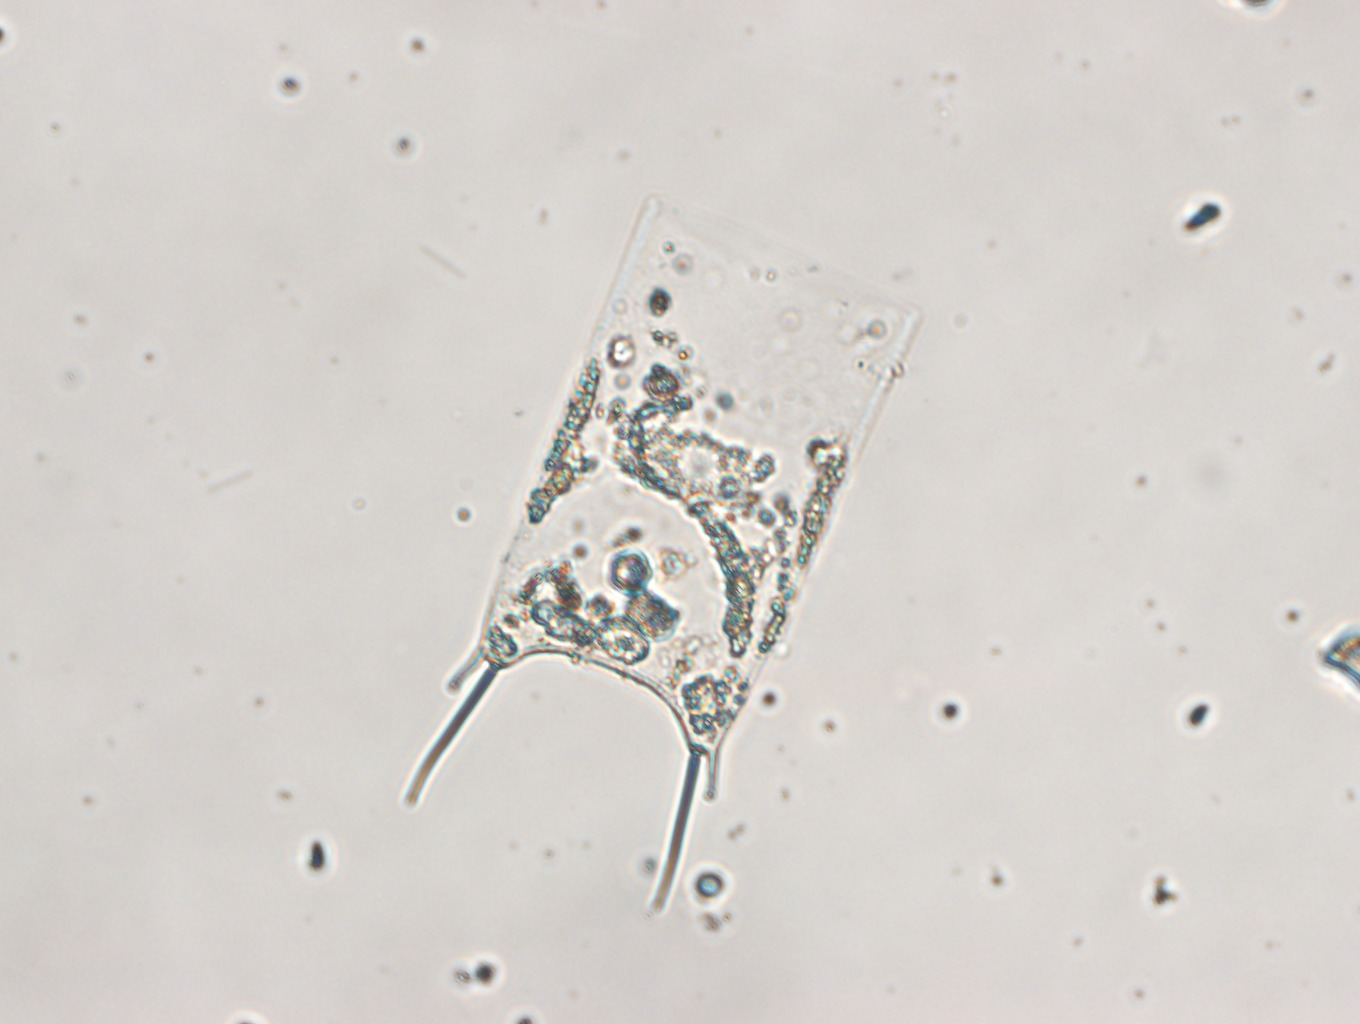biddulphia: (401, 196, 924, 918)
